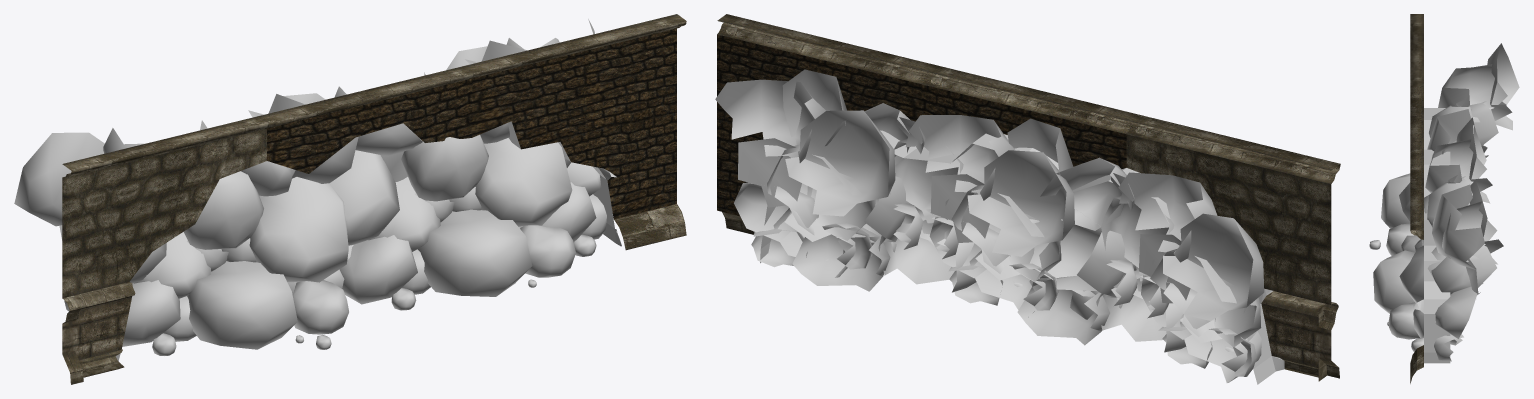
Rendered from default_worn_3x1_broken.dae.
3 views of the same model, side by side, from view 1: azimuth 30°, elevation 25°; view 2: azimuth 150°, elevation 25°; view 3: azimuth 270°, elevation 25° (orthographic). The views are drawn at different scales.
Parts seen in each view (by area): view 1: polySurface68, polySurface124, polySurface21, polySurface123, polySurface24; view 2: polySurface68, polySurface21, polySurface124, polySurface123, polySurface24; view 3: polySurface68, polySurface24, polySurface123, polySurface21.
Boxes of the visible parts, left/top/right/bottom form: polySurface68: left=14, top=19, right=606, bottom=355; polySurface124: left=267, top=28, right=676, bottom=219; polySurface21: left=62, top=114, right=276, bottom=384; polySurface123: left=267, top=14, right=686, bottom=250; polySurface24: left=115, top=121, right=621, bottom=360; polySurface68: left=715, top=69, right=1264, bottom=382; polySurface21: left=1126, top=114, right=1340, bottom=381; polySurface124: left=717, top=34, right=1126, bottom=215; polySurface123: left=717, top=14, right=1135, bottom=234; polySurface24: left=760, top=130, right=1284, bottom=384; polySurface68: left=1369, top=43, right=1519, bottom=361; polySurface24: left=1413, top=108, right=1450, bottom=363; polySurface123: left=1410, top=86, right=1423, bottom=383; polySurface21: left=1410, top=14, right=1423, bottom=85.
Bounding box in the file's own units: 12 × 4.01 × 3.52.
